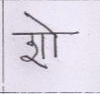e_matra: (24, 11, 57, 32)
